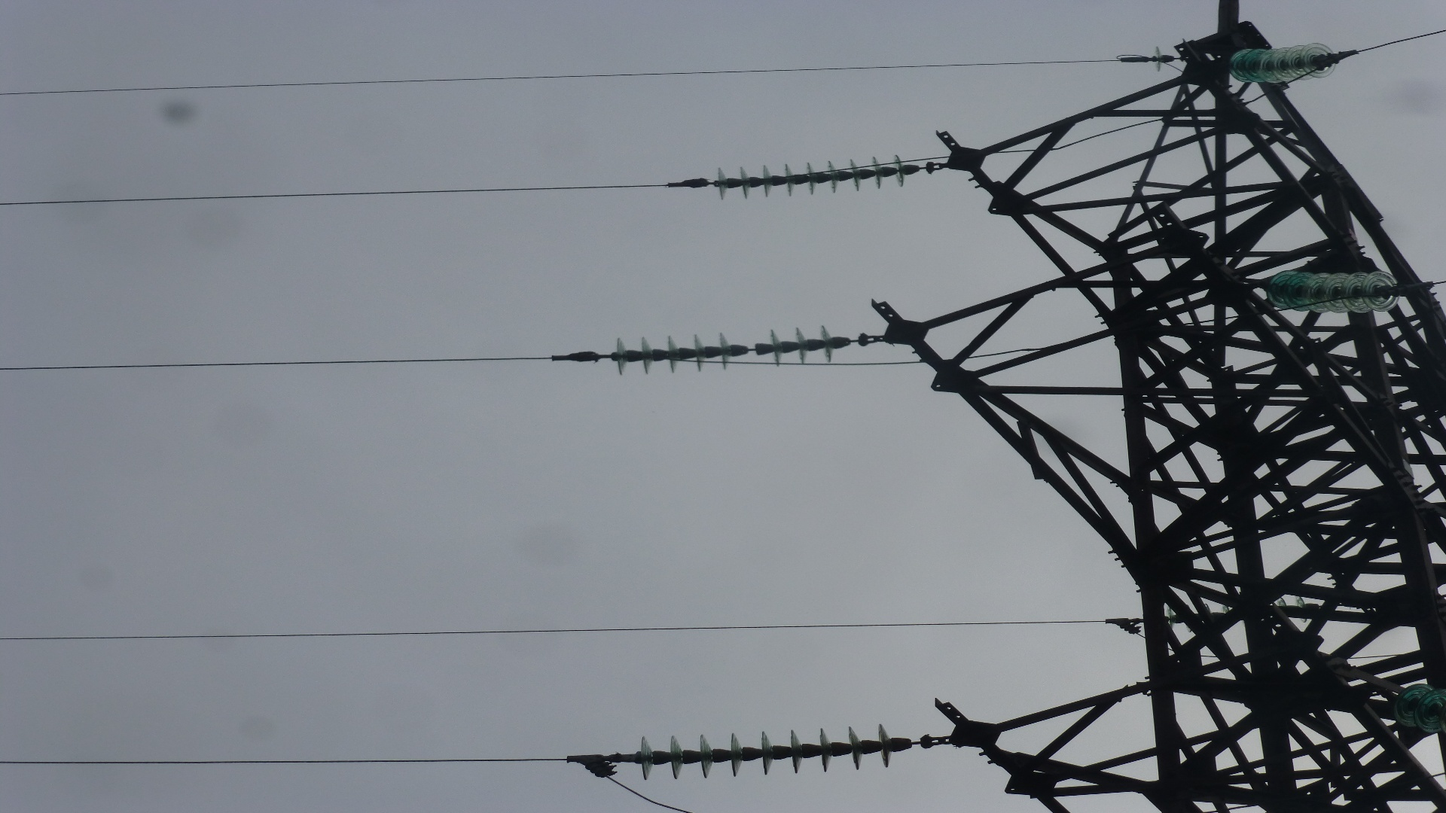insulator: (633, 720, 894, 783), (612, 321, 836, 377), (713, 152, 907, 204), (1264, 268, 1401, 315), (1227, 41, 1339, 88), (1391, 681, 1446, 735)
